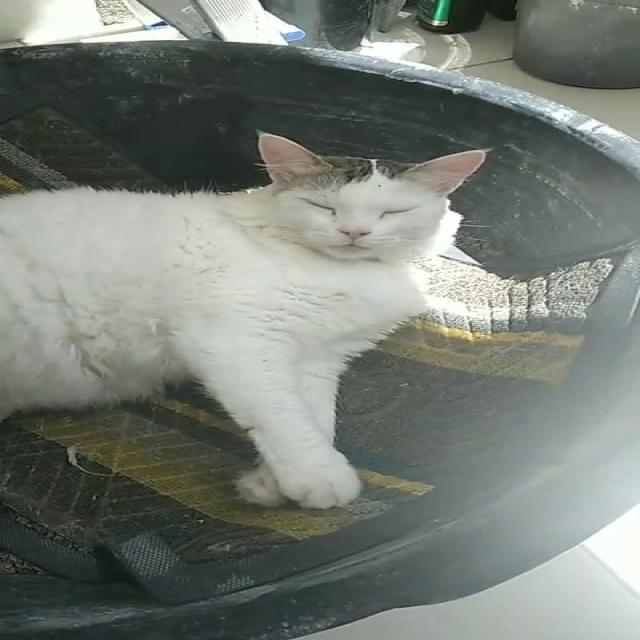Simba: (6, 87, 515, 531)
